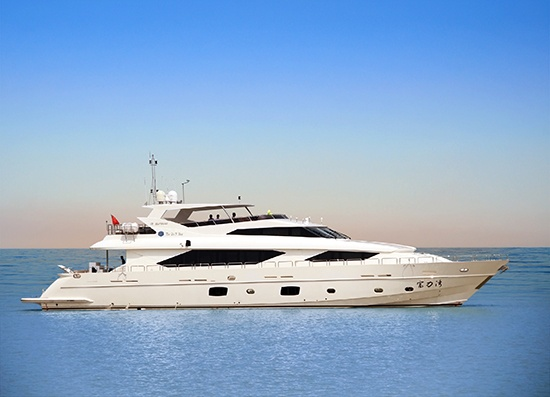yacht: (15, 153, 512, 313)
